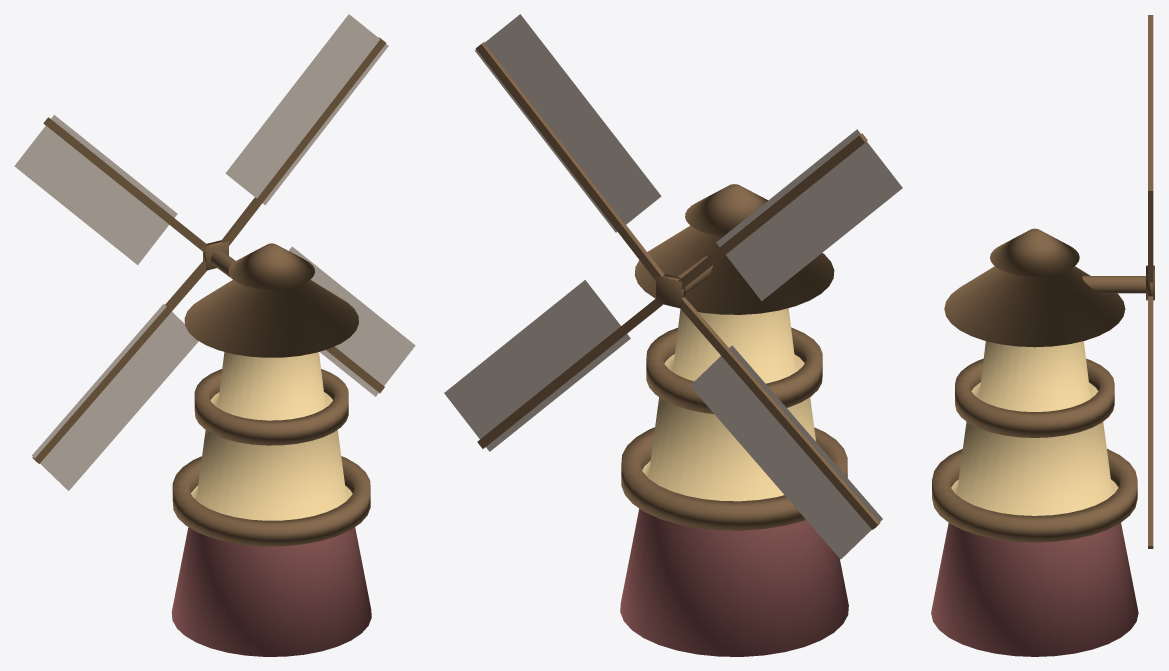
Rendered from windmill_colouronly.fbx.
3 views of the same model, side by side, from view 1: azimuth 30°, elevation 25°; view 2: azimuth 150°, elevation 25°; view 3: azimuth 270°, elevation 25° (orthographic). The views are drawn at different scales.
Parts seen in each view (by area): view 1: Cube, Cylinder.005, Cylinder, Cylinder.002, Cylinder.004, Cylinder.003; view 2: Cube, Cylinder.005, Cylinder, Cylinder.002, Cylinder.004, Cylinder.003; view 3: Cylinder.005, Cylinder, Cylinder.002, Cylinder.004, Cylinder.003, Cube, Cylinder.001.
Part boxes in pixels (box(x1,y1,x2,y2)): Cube: box(14, 14, 415, 490); Cylinder.005: box(171, 527, 371, 656); Cylinder: box(191, 352, 352, 520); Cylinder.002: box(184, 243, 358, 357); Cylinder.004: box(172, 456, 370, 546); Cylinder.003: box(194, 369, 348, 445); Cube: box(444, 14, 902, 559); Cylinder.005: box(620, 508, 848, 656); Cylinder: box(642, 308, 815, 501); Cylinder.002: box(634, 184, 834, 314); Cylinder.004: box(621, 427, 847, 530); Cylinder.003: box(646, 327, 822, 413); Cylinder.005: box(931, 523, 1138, 656); Cylinder: box(951, 341, 1118, 515); Cylinder.002: box(944, 228, 1125, 347); Cylinder.004: box(932, 448, 1137, 542); Cylinder.003: box(955, 358, 1114, 437); Cube: box(1146, 15, 1154, 548); Cylinder.001: box(1082, 276, 1145, 293).
Size of the model in its own units: 1827 by 2297 by 852.
